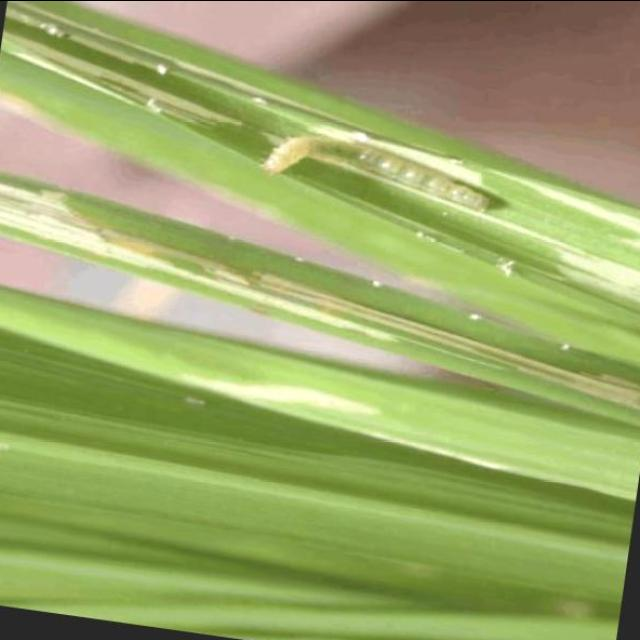leaf folder: (263, 133, 493, 210)
